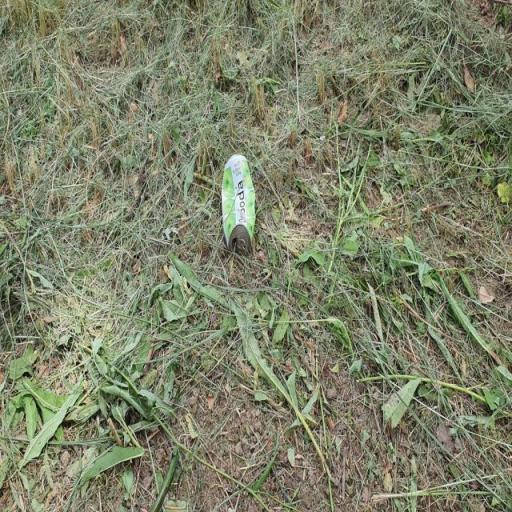metal: (215, 143, 272, 290)
